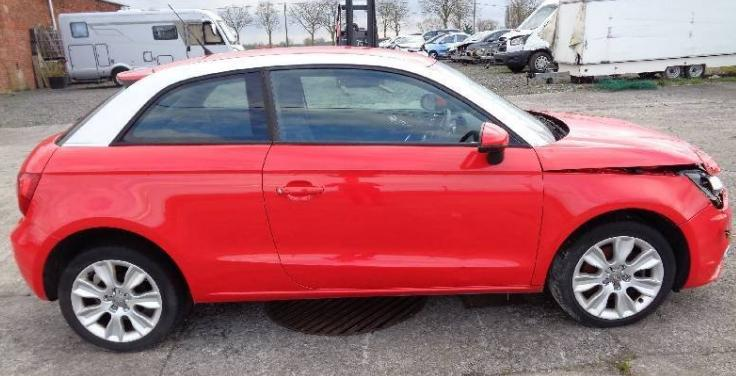Broken part: (526, 110, 721, 178), (684, 173, 727, 211)
Dent: (674, 139, 720, 172)
